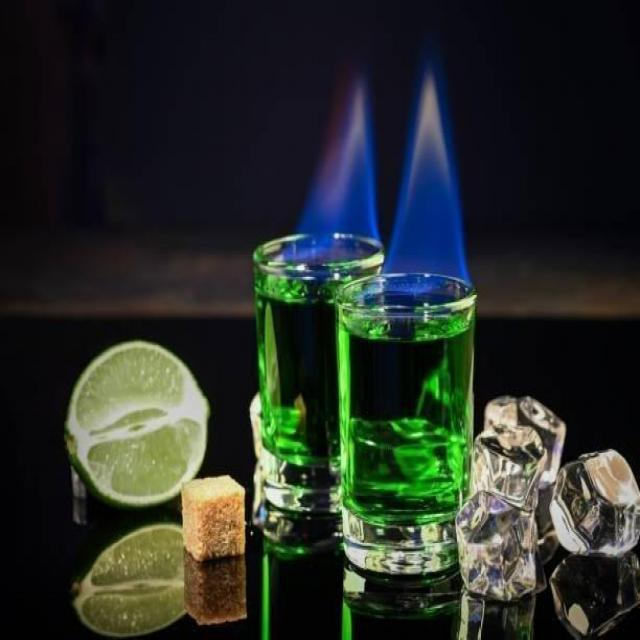glass-normal: (335, 270, 479, 581), (250, 231, 385, 518)
